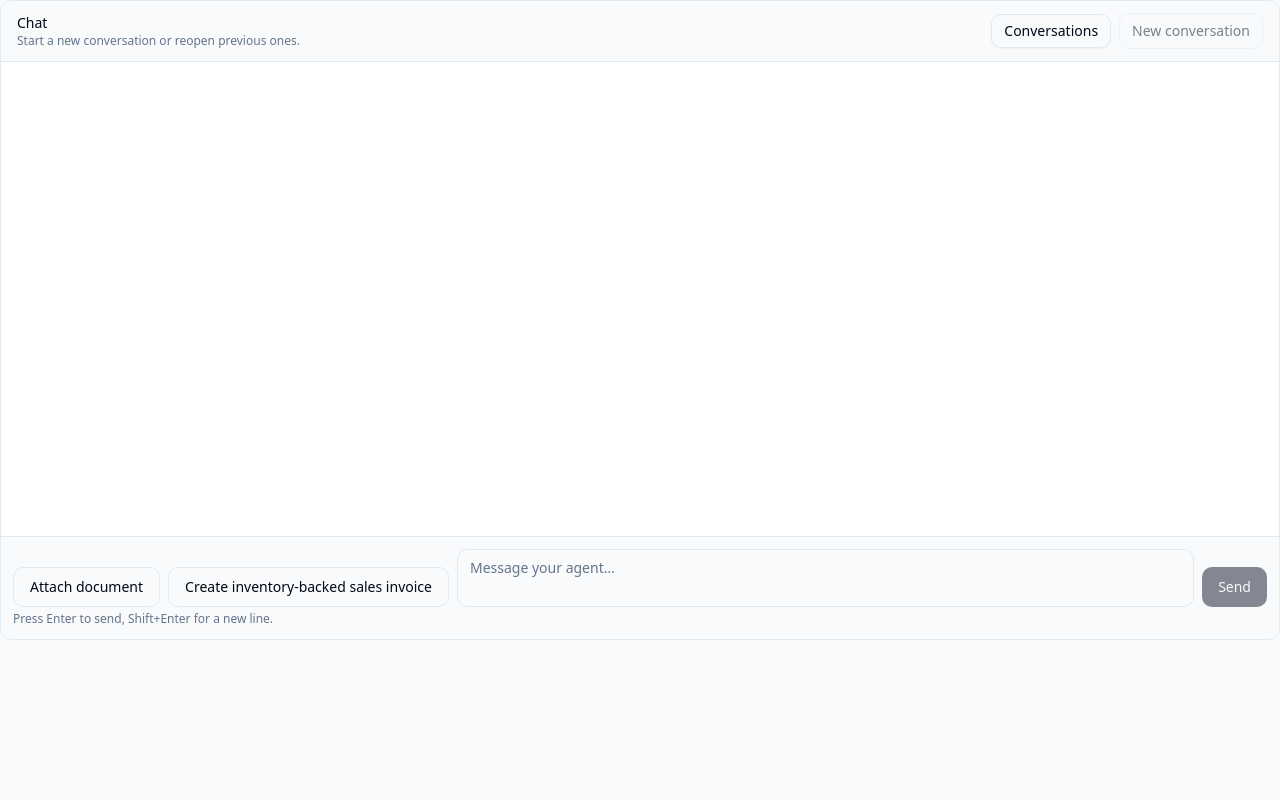
Test: ChatWindow › renders streamed tokens before the done event completes
This screenshot has width=1280, height=800.
In the text box with placeholder "Message your agent…": (826, 578) [457,549,1194,607], type "hello"
Then press Enter
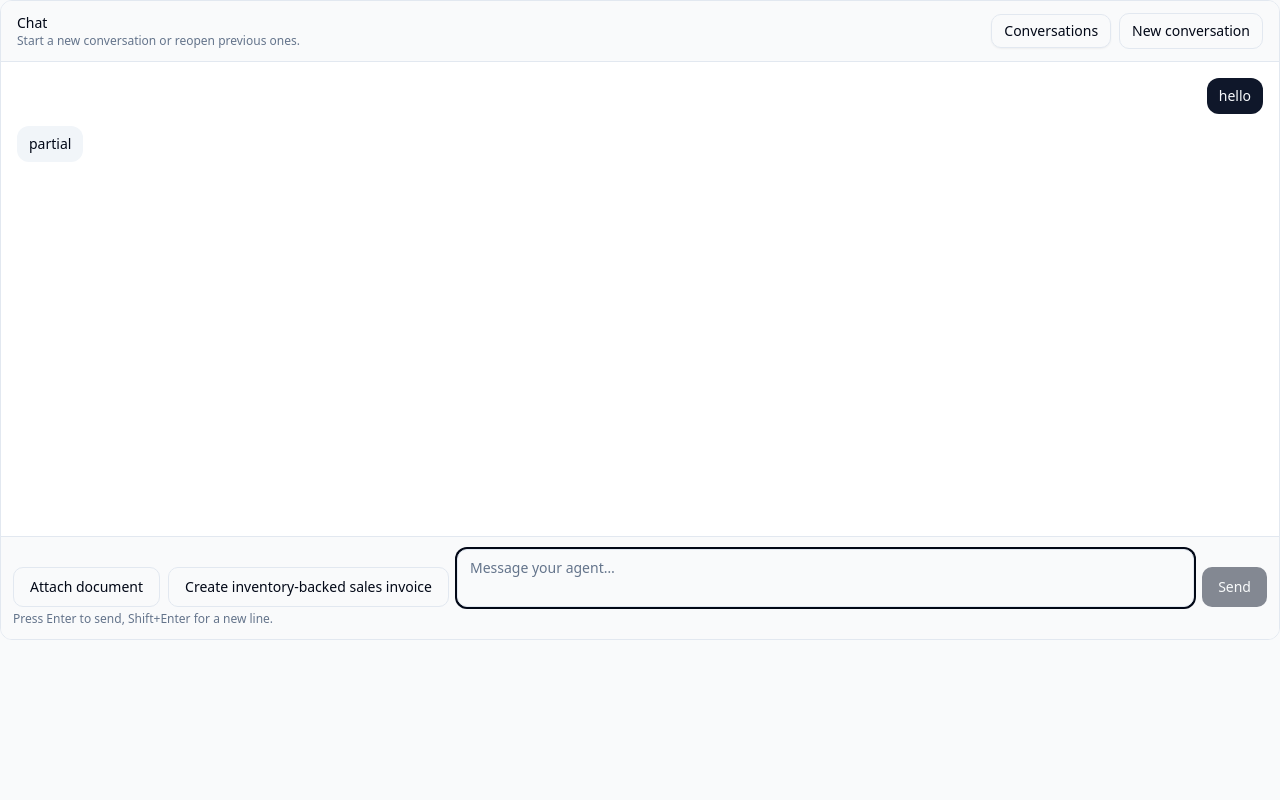
expect the text "partial" is shown: met, box [17,126,83,162]
